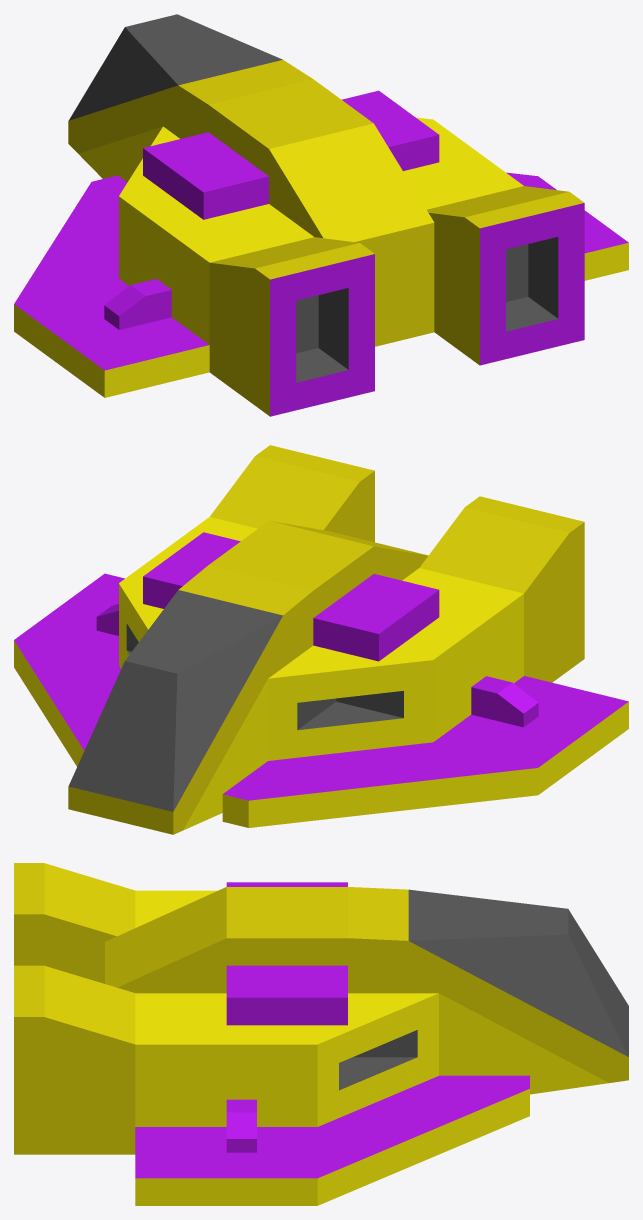
The model's file is player.glb.
The picture shows the model from 3 angles, top to bottom: view 1: azimuth 30°, elevation 25°; view 2: azimuth 150°, elevation 25°; view 3: azimuth 270°, elevation 25°; orthographic projection.
Parts seen in each view (by area): view 1: craft_speederB; view 2: craft_speederB; view 3: craft_speederB.
Boxes of the visible parts, x1,y1,x2,y2 form: craft_speederB: (14, 14, 628, 416); craft_speederB: (14, 445, 628, 834); craft_speederB: (14, 863, 628, 1205).
Bounding box in the file's own units: 2 × 0.6 × 2.03.
